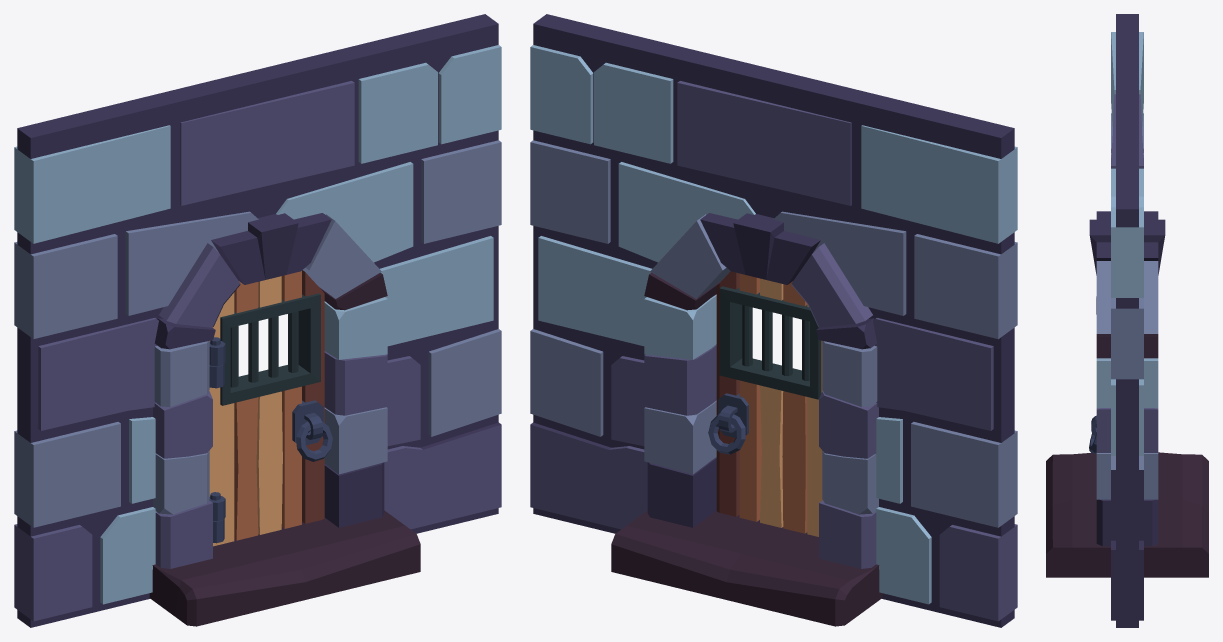
File: Modular Wall 08 MK2 D1.fbx
The picture shows the model from 3 angles, left to right: view 1: azimuth 30°, elevation 25°; view 2: azimuth 150°, elevation 25°; view 3: azimuth 270°, elevation 25°; orthographic projection. The views are drawn at different scales.
Parts seen in each view (by area): view 1: Modular Wall 08 MK2 D1, Modular Wall 08 D1 Doors; view 2: Modular Wall 08 MK2 D1, Modular Wall 08 D1 Doors; view 3: Modular Wall 08 MK2 D1, Modular Wall 08 D1 Doors.
Boxes of the visible parts, x1,y1,x2,y2 form: Modular Wall 08 MK2 D1: [14, 14, 501, 627]; Modular Wall 08 D1 Doors: [209, 270, 332, 546]; Modular Wall 08 MK2 D1: [530, 14, 1017, 627]; Modular Wall 08 D1 Doors: [708, 271, 822, 536]; Modular Wall 08 MK2 D1: [1046, 14, 1208, 627]; Modular Wall 08 D1 Doors: [1089, 296, 1096, 454].
Bounding box in the file's own units: 400 × 400 × 141.
